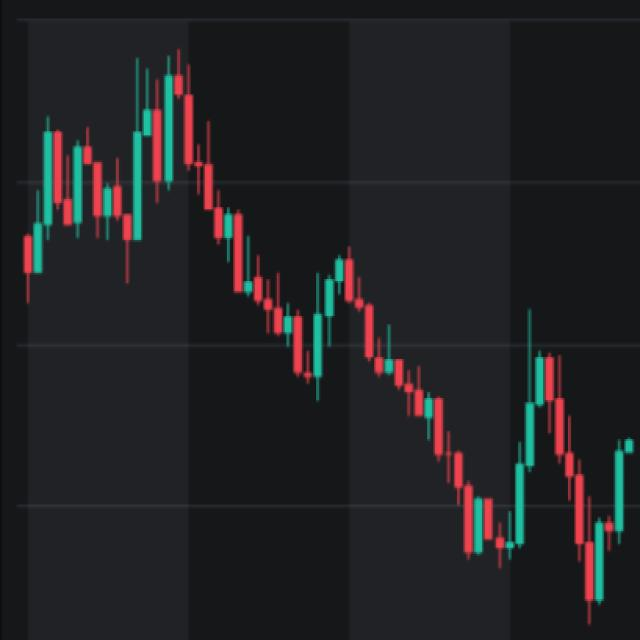Support-breakout: (128, 60, 304, 386)
